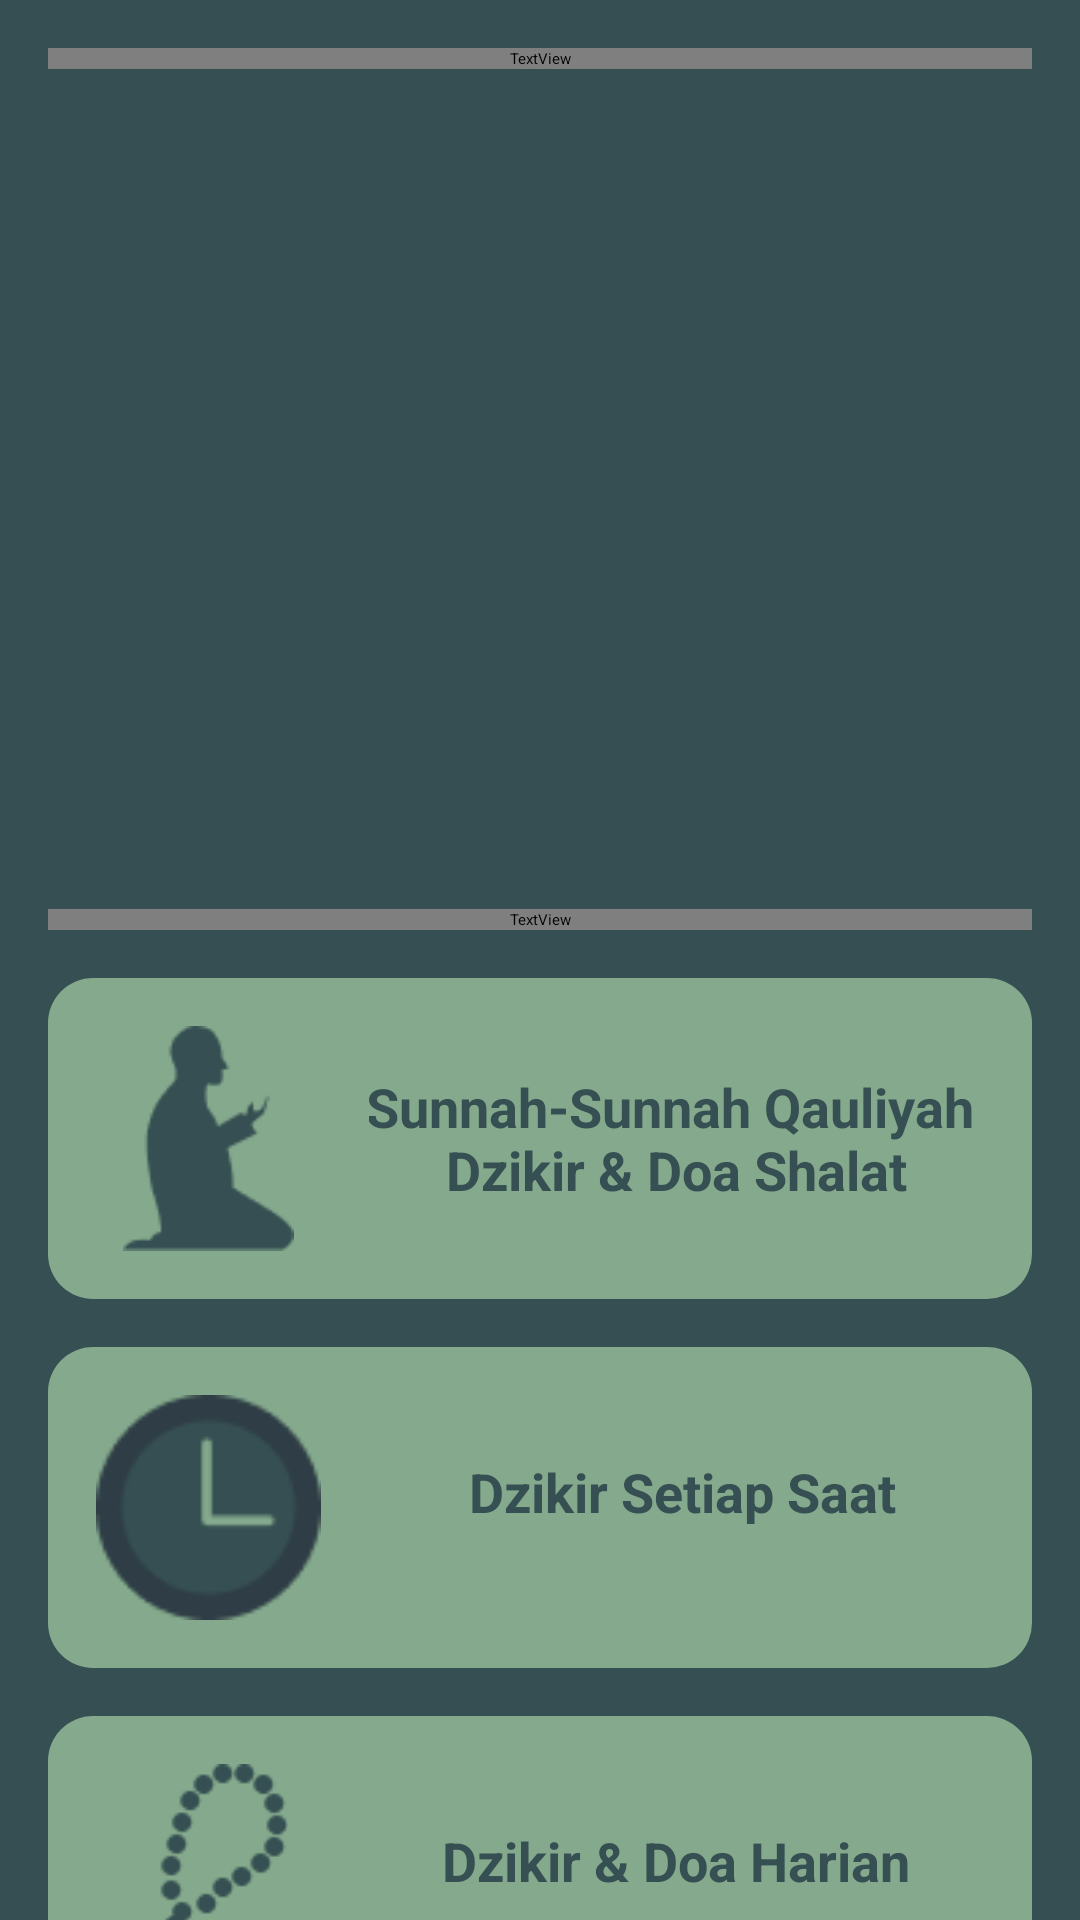

Where icons sit on this 1080x1920 app screen, as box(x1, y1, x2, y2):
time: box(96, 1395, 321, 1620)
